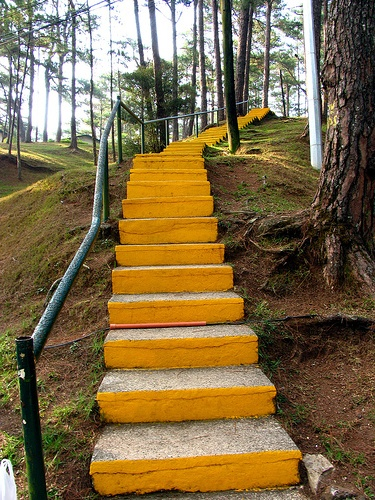stairs_up: (103, 128, 245, 498)
